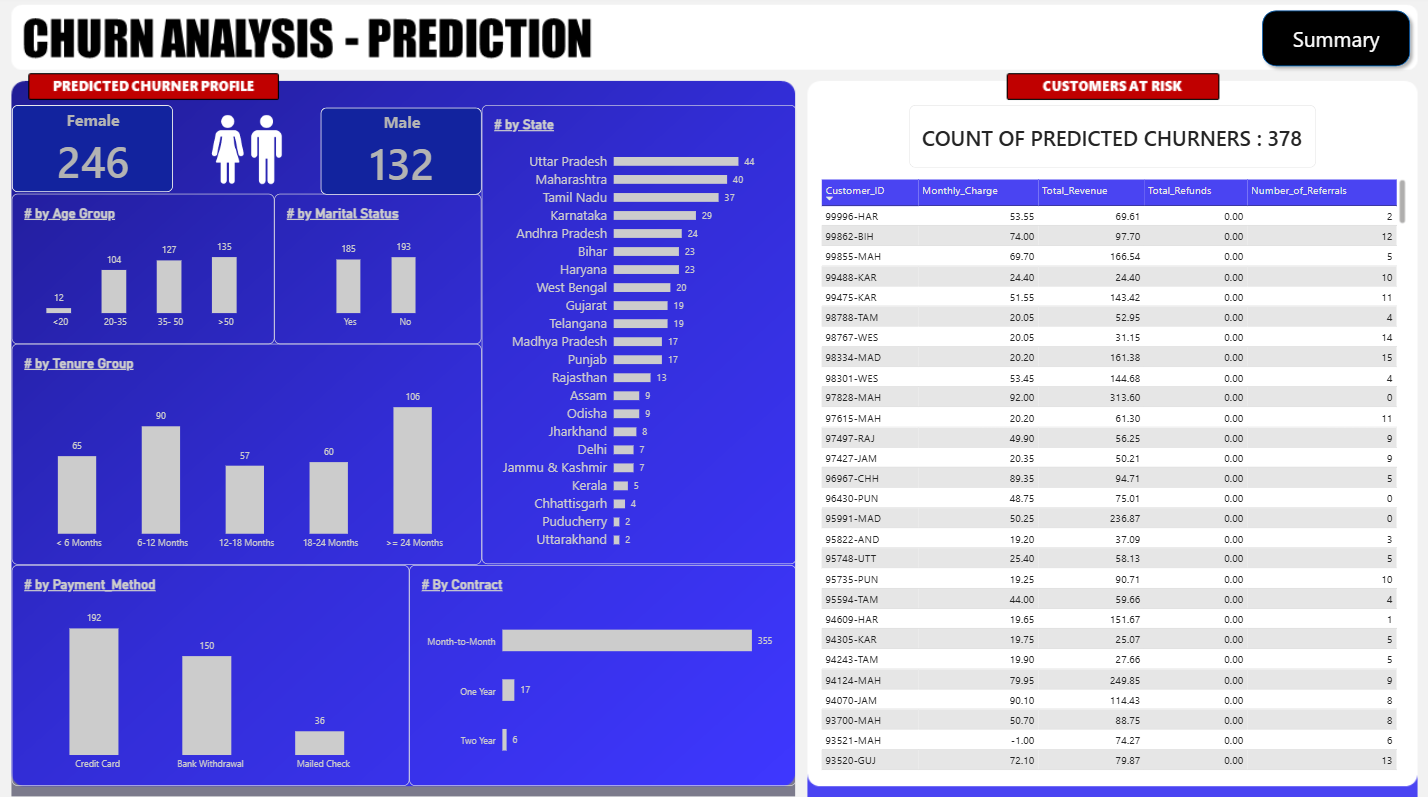

Layout of this report page (visuals, bound fields, positions):
{"tool":"powerbi","page":{"name":"Churn Prediction","canvas":[1920,1080],"ordinal":2},"visuals":[{"type":"tableEx","fields":{"Values":["Prediction_Data.Customer_ID","Prediction_Data.Monthly_Charge","Prediction_Data.Total_Revenue","Prediction_Data.Total_Refunds","Prediction_Data.Number_of_Referrals"]},"box":[1086.8,232.6,815.1,827.4],"z":0},{"type":"cardVisual","fields":{"Data":["tbl_Measures.Title Predicted Churner"]},"box":[1220.6,148.2,545.5,84.4],"z":1000},{"type":"clusteredColumnChart","fields":{"Category":["mapping_AgeGrp.Age Group"],"Y":["CountNonNull(Prediction_Data.Customer_ID)"]},"box":[18.5,265.5,352,201.7],"z":3001},{"type":"clusteredColumnChart","fields":{"Category":["Prediction_Data.Married"],"Y":["CountNonNull(Prediction_Data.Customer_ID)"]},"box":[370.5,265.5,277.9,201.7],"z":3002},{"type":"clusteredColumnChart","fields":{"Category":["mapping_TenureGrp.Tenure Group"],"Y":["CountNonNull(Prediction_Data.Customer_ID)"]},"box":[18.5,467.2,629.8,296.4],"z":3003},{"type":"clusteredColumnChart","fields":{"Category":["Prediction_Data.Payment_Method"],"Y":["CountNonNull(Prediction_Data.Customer_ID)"]},"box":[18.5,763.6,533.1,296.4],"z":3004},{"type":"clusteredBarChart","title":"# By Contract","fields":{"Category":["Prediction_Data.Contract"],"Y":["CountNonNull(Prediction_Data.Customer_ID)"]},"box":[551.6,763.6,518.7,296.4],"z":3005},{"type":"clusteredBarChart","fields":{"Category":["Prediction_Data.State"],"Y":["CountNonNull(Prediction_Data.Customer_ID)"]},"box":[648.4,148.2,422,615.4],"z":3006},{"type":"cardVisual","fields":{"Data":["tbl_Measures.Count Predicted Churner"]},"box":[18.4,147.4,216.1,117.3],"z":3007},{"type":"cardVisual","fields":{"Data":["tbl_Measures.Count Predicted Churner"]},"box":[432.2,150.3,216.1,117.3],"z":3008},{"type":"image","box":[234.6,148.2,197.6,117.3],"z":3009},{"type":"shape","box":[1685.8,12.3,216.1,92.6],"z":3010}]}

Visuals, with their boxes in screenshot pixels (x1, y1, x2, y2), scaled from the page's 1920x1080 canvas onto the 1428x797 screenshot:
tableEx - Prediction_Data.Customer_ID x Prediction_Data.Monthly_Charge: detection(808, 172, 1415, 782)
cardVisual - tbl_Measures.Title Predicted Churner: detection(908, 109, 1314, 172)
clusteredColumnChart - mapping_AgeGrp.Age Group x CountNonNull(Prediction_Data.Customer_ID): detection(14, 196, 276, 345)
clusteredColumnChart - Prediction_Data.Married x CountNonNull(Prediction_Data.Customer_ID): detection(276, 196, 482, 345)
clusteredColumnChart - mapping_TenureGrp.Tenure Group x CountNonNull(Prediction_Data.Customer_ID): detection(14, 345, 482, 564)
clusteredColumnChart - Prediction_Data.Payment_Method x CountNonNull(Prediction_Data.Customer_ID): detection(14, 564, 410, 782)
"# By Contract" clusteredBarChart: detection(410, 564, 796, 782)
clusteredBarChart - Prediction_Data.State x CountNonNull(Prediction_Data.Customer_ID): detection(482, 109, 796, 564)
cardVisual - tbl_Measures.Count Predicted Churner: detection(14, 109, 174, 195)
cardVisual - tbl_Measures.Count Predicted Churner: detection(321, 111, 482, 197)
image: detection(174, 109, 321, 196)
shape: detection(1254, 9, 1415, 77)
